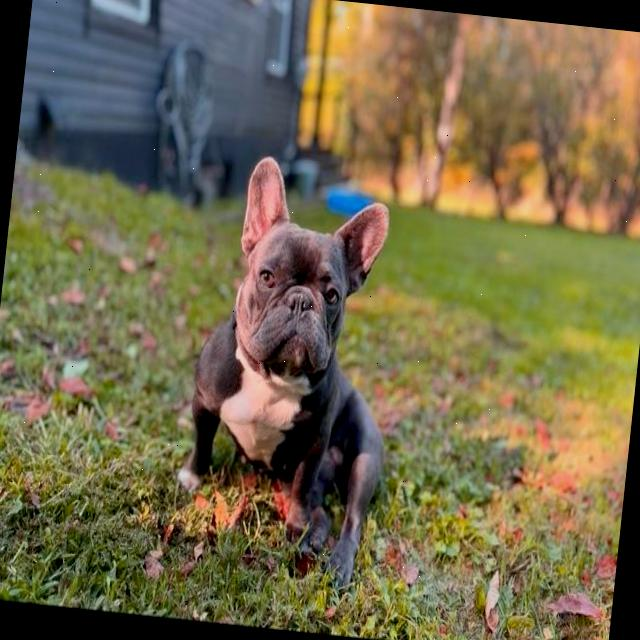french_bulldog_dog: (216, 150, 397, 403)
